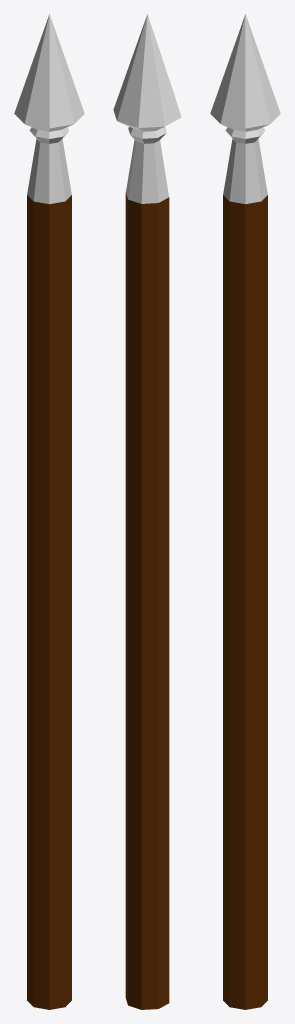
The model's file is Spear.fbx.
The picture shows the model from 3 angles, left to right: view 1: azimuth 90°, elevation 25°; view 2: azimuth 210°, elevation 25°; view 3: azimuth 270°, elevation 25°; orthographic projection.
Visible parts, largest first — view 1: Cylinder.001; view 2: Cylinder.001; view 3: Cylinder.001.
Boxes of the visible parts, bbox=[...] form: Cylinder.001: bbox=[14, 14, 84, 1009]; Cylinder.001: bbox=[113, 14, 181, 1009]; Cylinder.001: bbox=[210, 14, 280, 1009].
Bounding box in the file's own units: 16.68 × 257 × 16.68.
